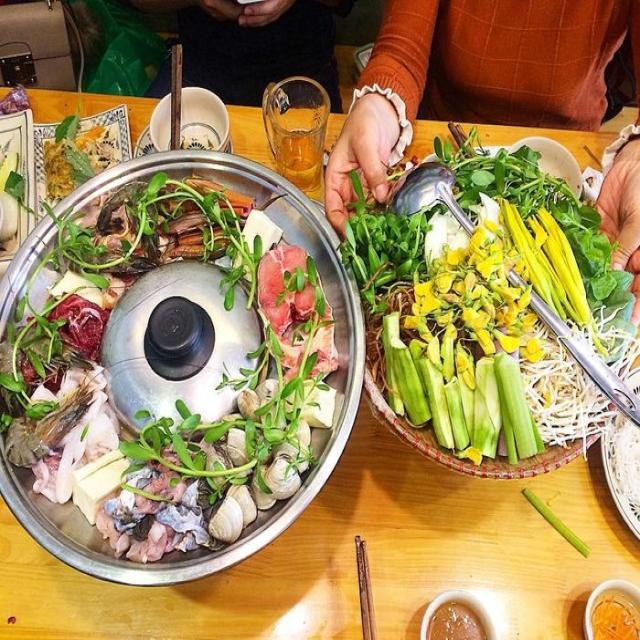lau hai san: (5, 160, 381, 572)
